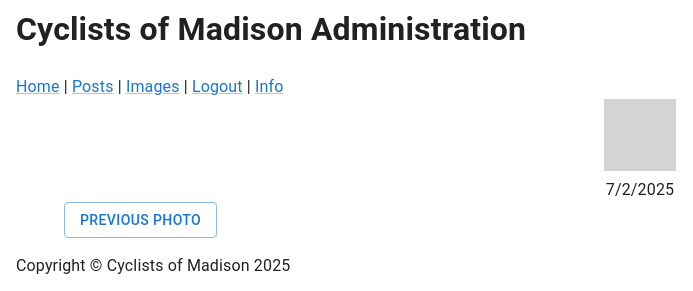
Test: suite › renders a photo from cyclists of madison
The width and height of the screenshot is (693, 291).
click previous once
Click the button "Previous Photo".
click(140, 220)  # box [64,202,217,238]
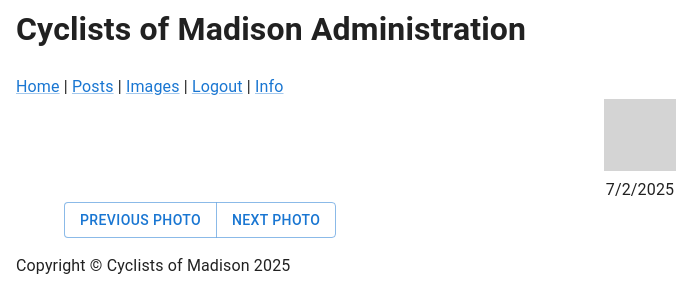
Expected: the button "Next Photo" is shown, [216,202,336,238]
Click the button "Previous Photo".
click(140, 220)  # box [64,202,217,238]
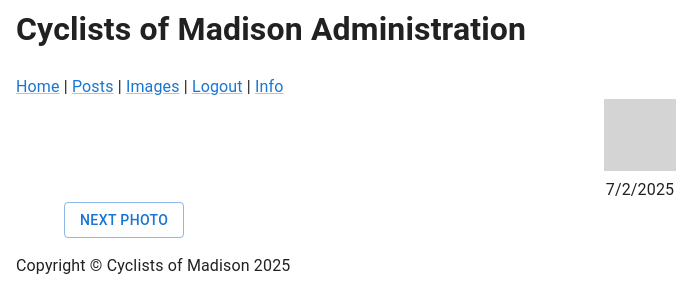
Expected: the button "Next Photo" is shown, [64,202,184,238]
Expected: the button "Previous Photo" is gone
